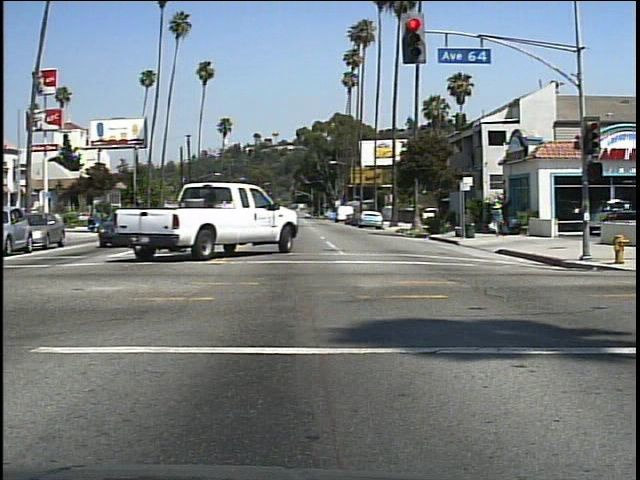person: (486, 197, 511, 242)
